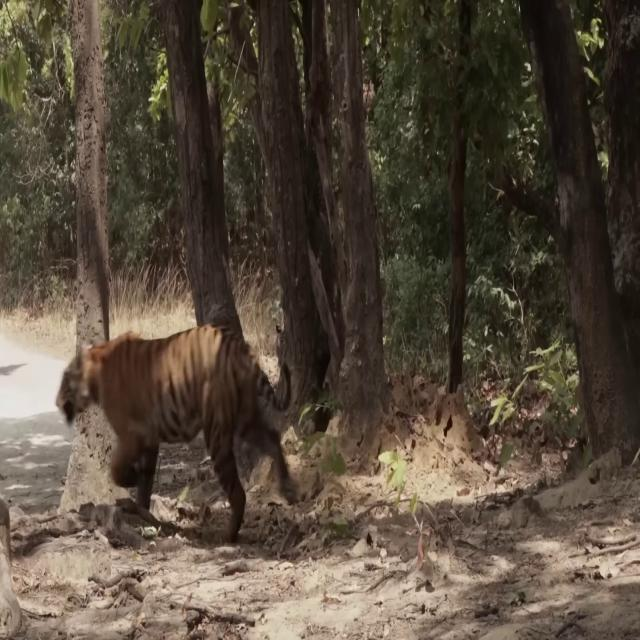tiger: (55, 320, 302, 541)
